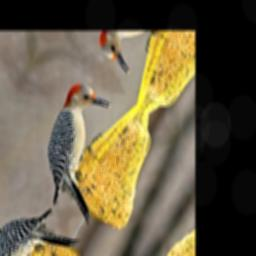Woodpecker: (12, 63, 147, 232)
